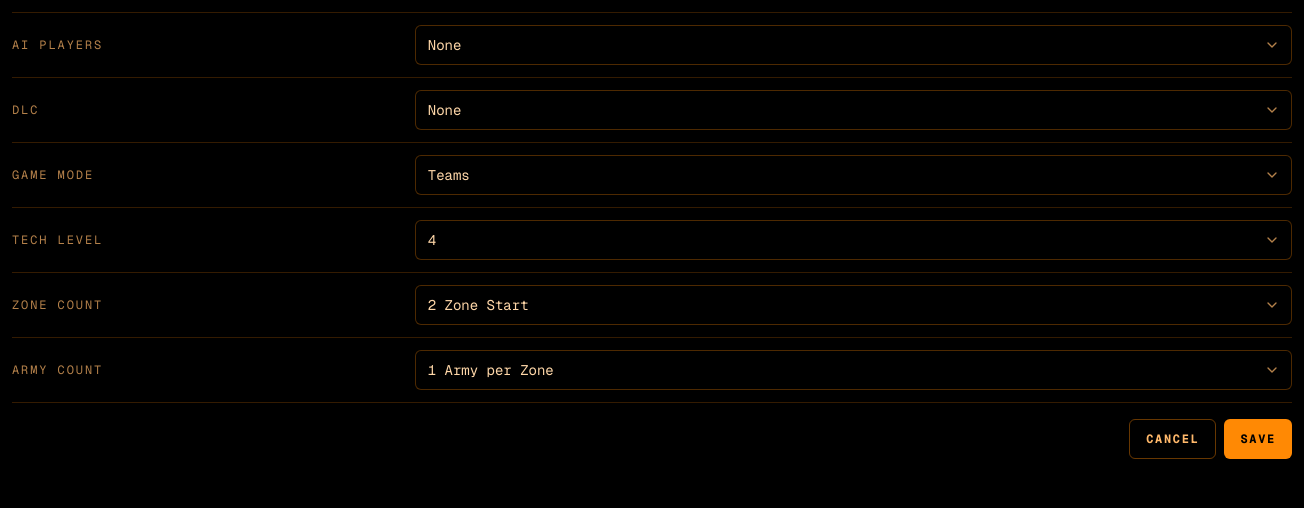
Test: CampaignSettingsEditor › keeps metadata request failures inline with the draft dirty
Select "FFA" in the dropdown labelled "Game mode": x=853, y=175 [415,155,1292,195]
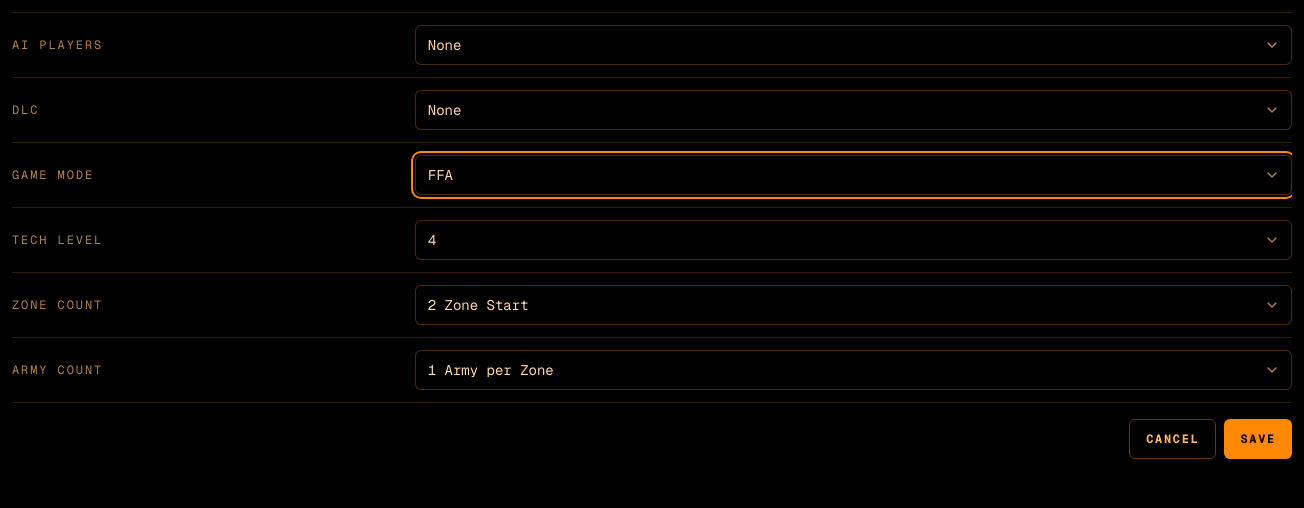
Click the button "Save": x=1258, y=439 [1224,419,1292,459]
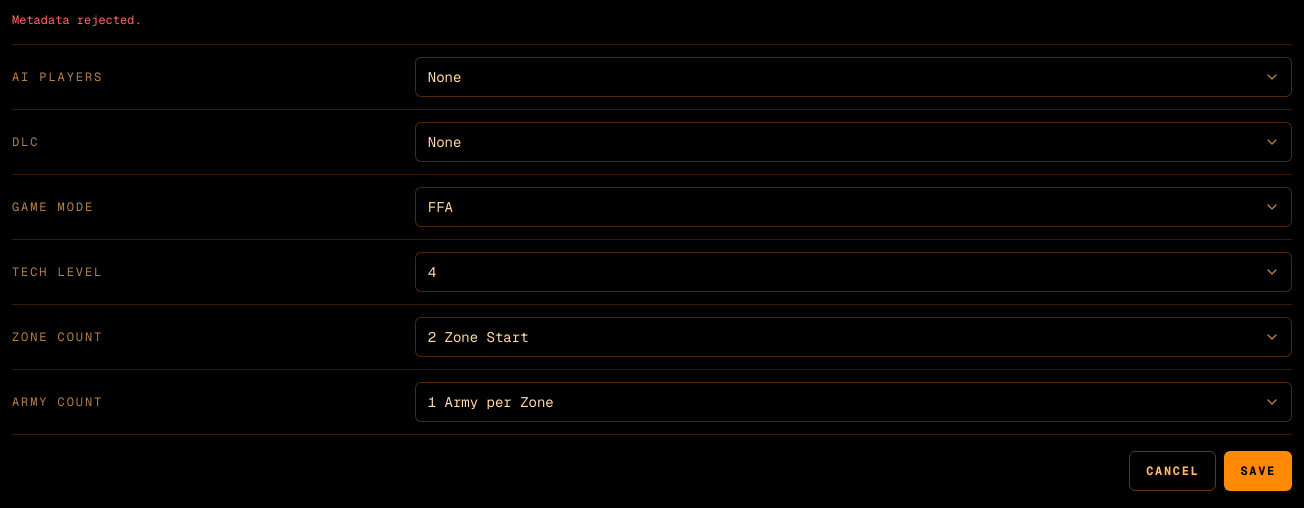
expect the message reads "Metadata rejected.": met, box [12,12,142,28]
